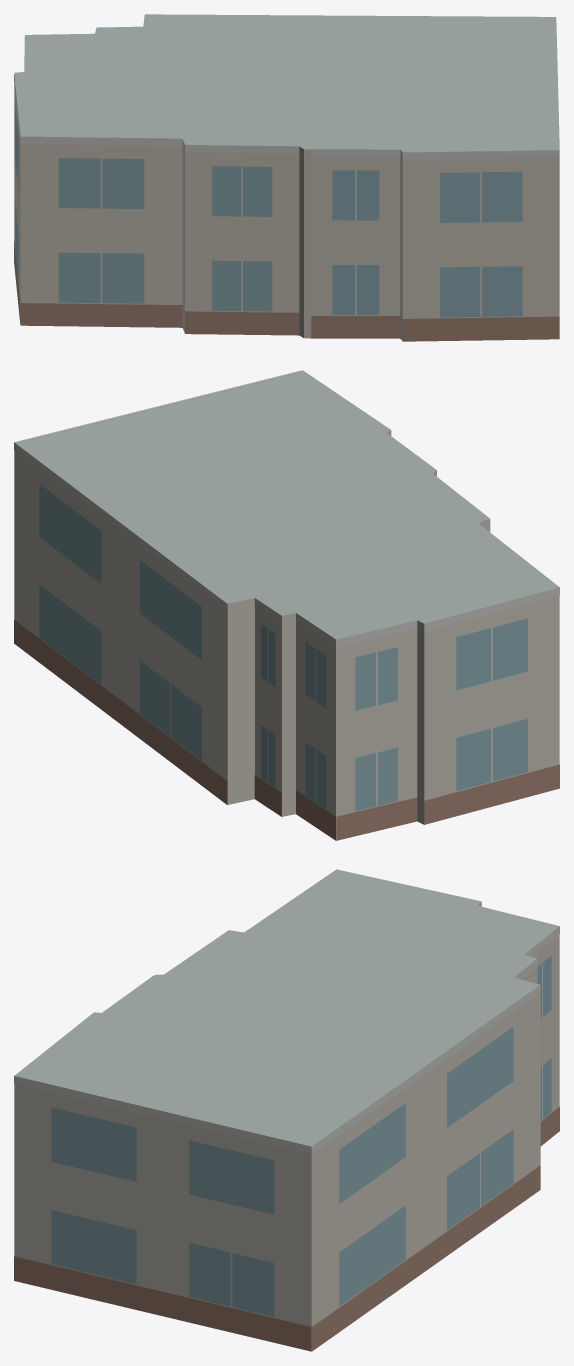
File: survey-upis-32666949.glb
3 views of the same model, one above another, from view 1: azimuth 30°, elevation 25°; view 2: azimuth 150°, elevation 25°; view 3: azimuth 270°, elevation 25° (orthographic). The views are drawn at different scales.
Parts seen in each view (by area): view 1: survey-upis-32666949.tmp; view 2: survey-upis-32666949.tmp; view 3: survey-upis-32666949.tmp.
Part boxes in pixels (box(x1,y1,x2,y2)): survey-upis-32666949.tmp: box(14, 14, 559, 341); survey-upis-32666949.tmp: box(14, 370, 559, 840); survey-upis-32666949.tmp: box(14, 869, 559, 1351).
Size of the model in its own units: 17.71 by 6.1 by 14.73.
